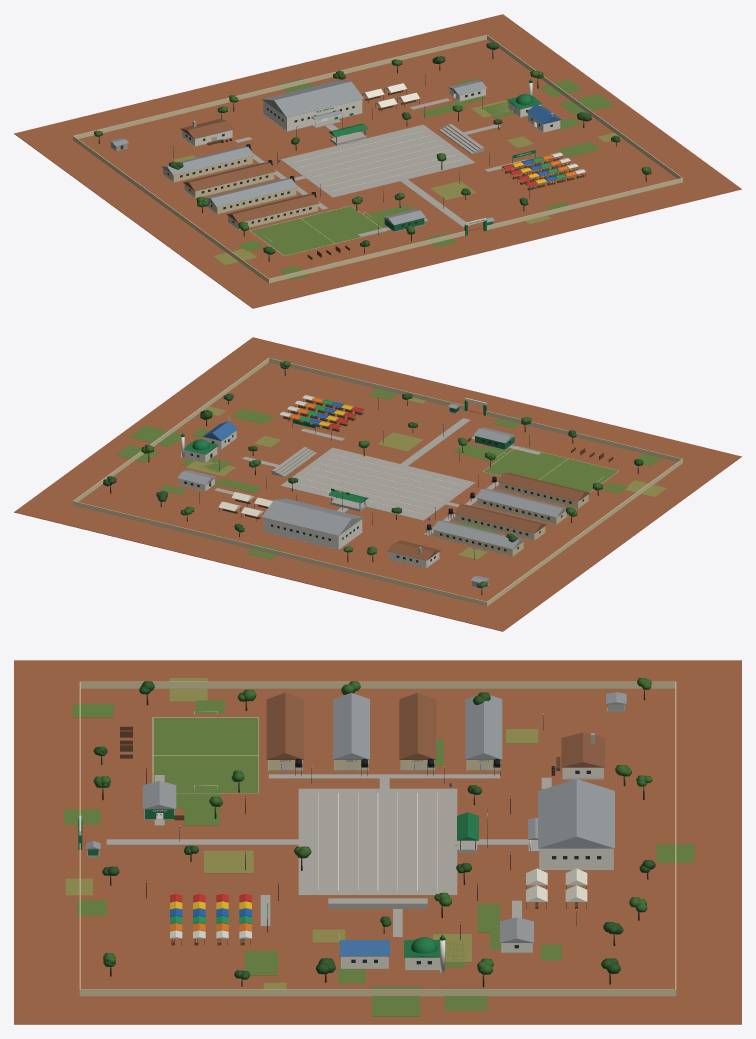
Rendered from camp.fbx.
The picture shows the model from 3 angles, top to bottom: view 1: azimuth 30°, elevation 25°; view 2: azimuth 150°, elevation 25°; view 3: azimuth 270°, elevation 25°; orthographic projection. The views are drawn at different scales.
Parts seen in each view (by area): view 1: Ground, ParadeSlab, Pitch_NOCOL, Hall_Roof_NOCOL, WallN, WallW, Hostel1_Roof_NOCOL, Hostel3_Roof_NOCOL, Hostel2_Roof_NOCOL, WallSW, WallSE, WallE (+8 smaller); view 2: Ground, ParadeSlab, Pitch_NOCOL, WallN, Hall_Roof_NOCOL, WallW, Hostel1_Roof_NOCOL, Hall_WallsN, Hostel3_Roof_NOCOL, Hostel2_Roof_NOCOL, Hostel0_Roof_NOCOL, WallE (+10 smaller); view 3: Ground, ParadeSlab, Pitch_NOCOL, Hall_Roof_NOCOL, WallE, WallW, Hostel3_Roof_NOCOL, Hostel1_Roof_NOCOL, Hostel2_Roof_NOCOL, Hostel0_Roof_NOCOL, Hall_WallsE, Kitchen_Roof_NOCOL (+19 smaller).
Part boxes in pixels (bbox=[...]): Ground: bbox=[14, 14, 741, 308]; ParadeSlab: bbox=[280, 124, 475, 197]; Pitch_NOCOL: bbox=[250, 206, 385, 255]; Hall_Roof_NOCOL: bbox=[262, 80, 363, 117]; WallN: bbox=[73, 35, 486, 138]; WallW: bbox=[73, 136, 268, 282]; Hostel1_Roof_NOCOL: bbox=[183, 162, 275, 191]; Hostel3_Roof_NOCOL: bbox=[226, 194, 319, 222]; Hostel2_Roof_NOCOL: bbox=[206, 178, 297, 206]; WallSW: bbox=[268, 231, 465, 283]; WallSE: bbox=[487, 178, 682, 229]; WallE: bbox=[487, 35, 682, 181]; Ground: bbox=[14, 337, 741, 631]; ParadeSlab: bbox=[280, 447, 475, 520]; Pitch_NOCOL: bbox=[483, 446, 618, 492]; WallN: bbox=[73, 501, 487, 606]; Hall_Roof_NOCOL: bbox=[262, 498, 363, 535]; WallW: bbox=[487, 459, 682, 605]; Hostel1_Roof_NOCOL: bbox=[454, 504, 546, 533]; Hall_WallsN: bbox=[263, 517, 338, 549]; Hostel3_Roof_NOCOL: bbox=[497, 473, 589, 501]; Hostel2_Roof_NOCOL: bbox=[475, 488, 566, 517]; Hostel0_Roof_NOCOL: bbox=[432, 520, 524, 549]; WallE: bbox=[73, 358, 268, 504]; Ground: bbox=[14, 660, 741, 1024]; ParadeSlab: bbox=[298, 788, 457, 895]; Pitch_NOCOL: bbox=[153, 717, 258, 792]; Hall_Roof_NOCOL: bbox=[538, 779, 614, 848]; WallE: bbox=[80, 989, 675, 996]; WallW: bbox=[80, 681, 675, 688]; Hostel3_Roof_NOCOL: bbox=[266, 692, 303, 759]; Hostel1_Roof_NOCOL: bbox=[399, 692, 436, 759]; Hostel2_Roof_NOCOL: bbox=[333, 692, 369, 759]; Hostel0_Roof_NOCOL: bbox=[465, 695, 502, 759]; Hall_WallsE: bbox=[540, 848, 612, 869]; Kitchen_Roof_NOCOL: bbox=[561, 732, 604, 767].
Bounding box in the file's own units: 260 × 12.6 × 220.
